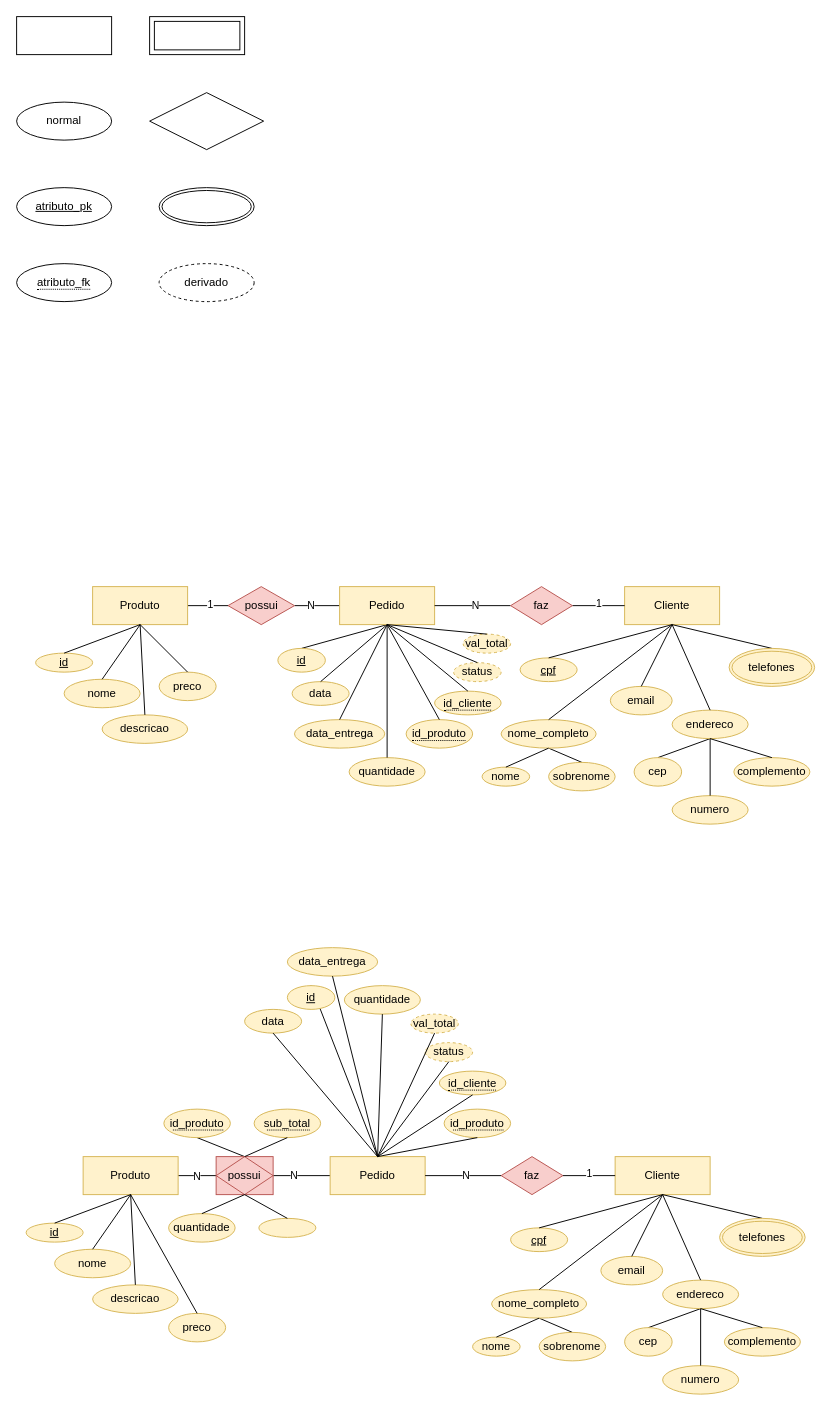
Image size: 831x1411. Some labels were removed from this diagram. Each missing label, with the centre of its shape:
"Entidade" belongs at (64,35).
"Entidade fraca" belongs at (197,35).
"id_total" belongs at (287,1227).
"multivalorado" belongs at (206,206).
"Relacionamento" belongs at (206,121).
